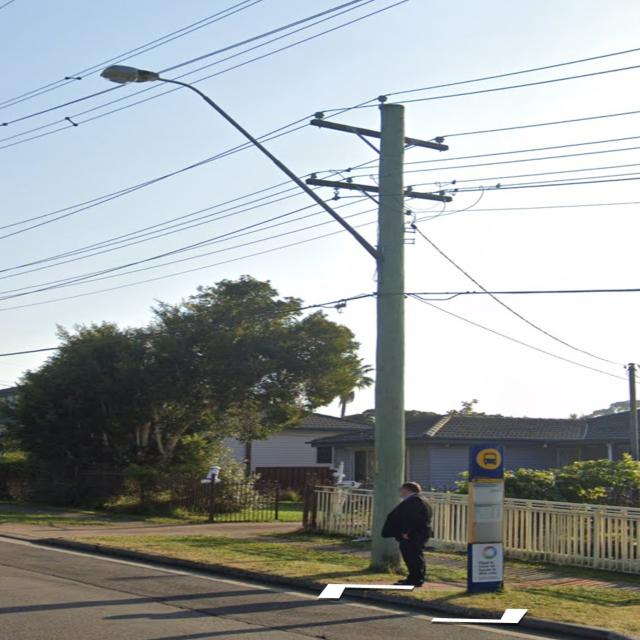HV-transmission: (308, 96, 448, 152)
crossarm: (309, 119, 447, 151), (307, 178, 452, 204)
streetlight: (102, 63, 374, 264)
timber-pole: (372, 102, 404, 570)
